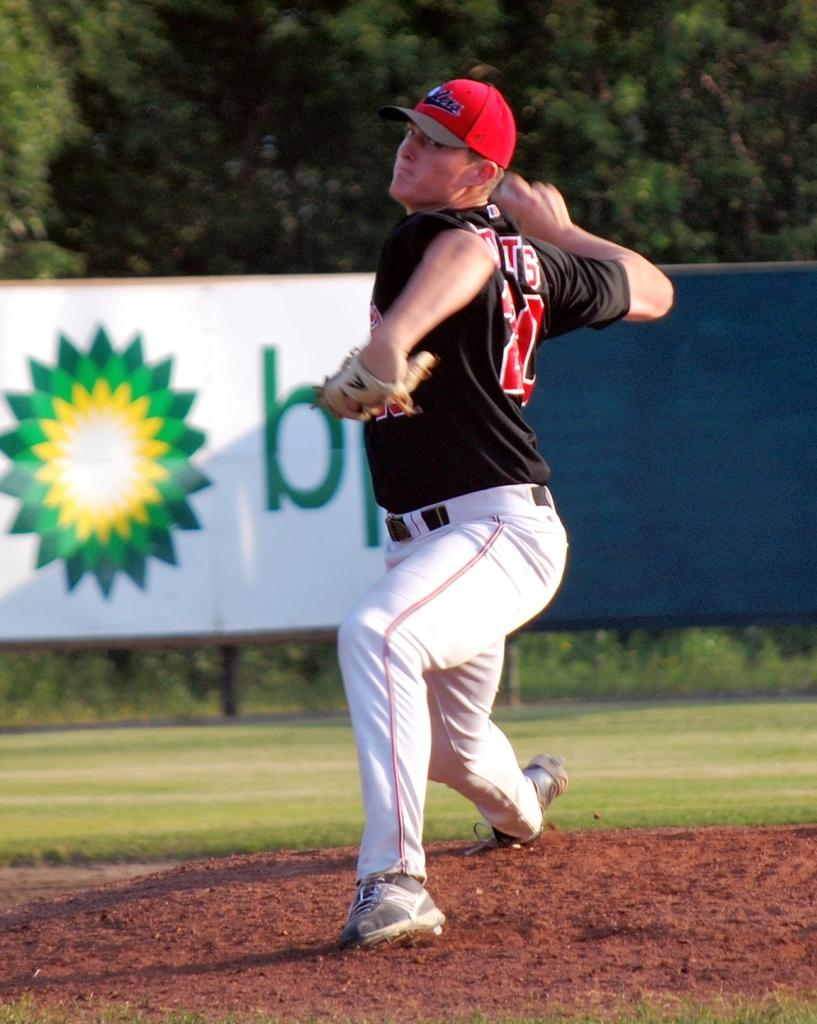Hat: (381, 75, 514, 165)
